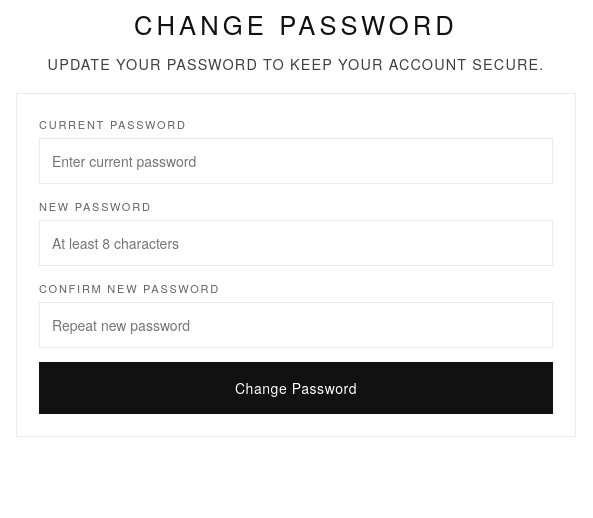
PasswordChange - validation › shows a min-length error for a new password under 8 characters
Type "oldpass" into the password field labelled "Current Password" at (296, 161), box [39,138,553,184]
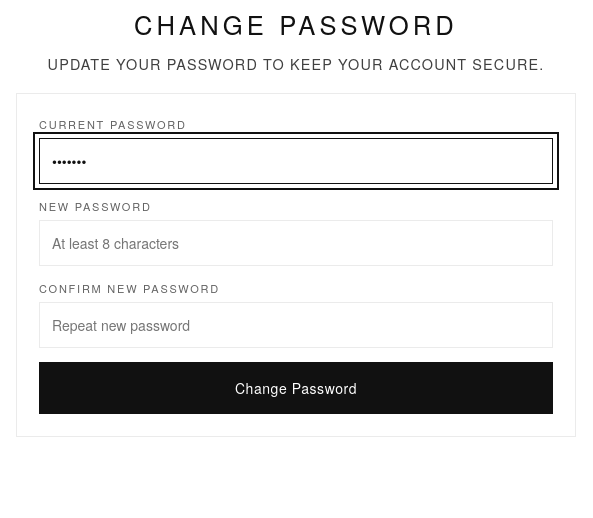
Type "short" into the password field labelled "New Password" at (296, 243), box [39,220,553,266]
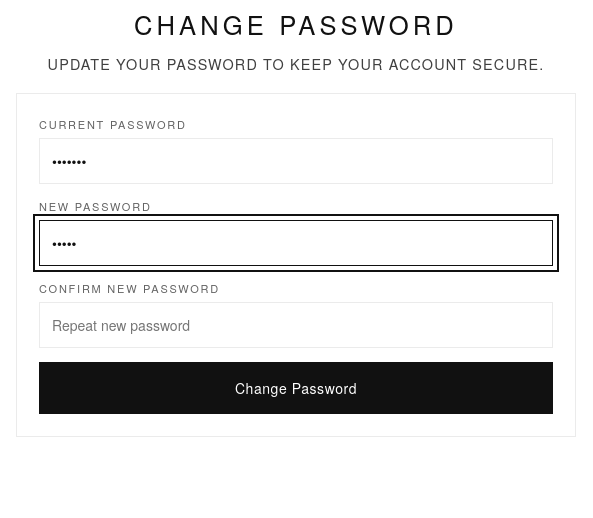
Type "short" into the password field labelled "Confirm New Password" at (296, 325), box [39,302,553,348]
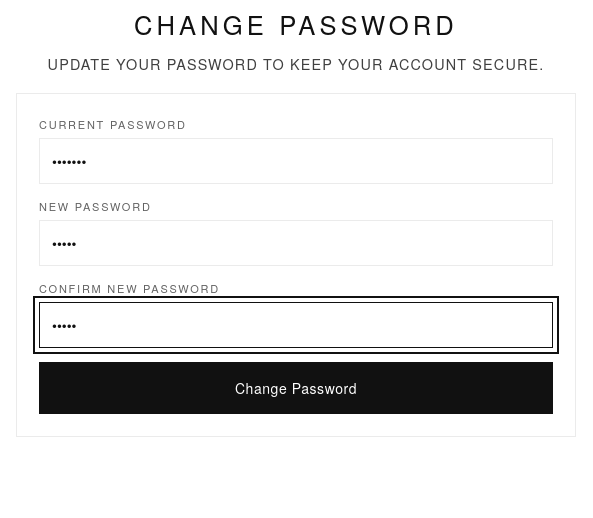
Click the button "Change Password" at (296, 388), box [39,362,553,414]
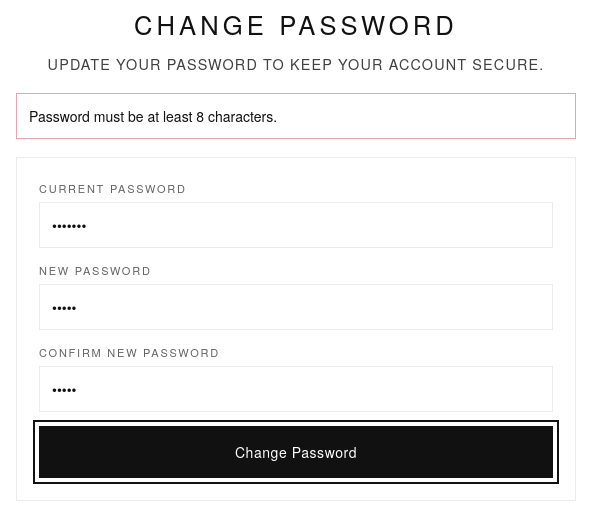
Check: the text "Password must be at least 8 characters." is shown, box [16,93,576,139]
